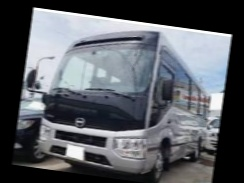bus: (30, 17, 218, 183)
